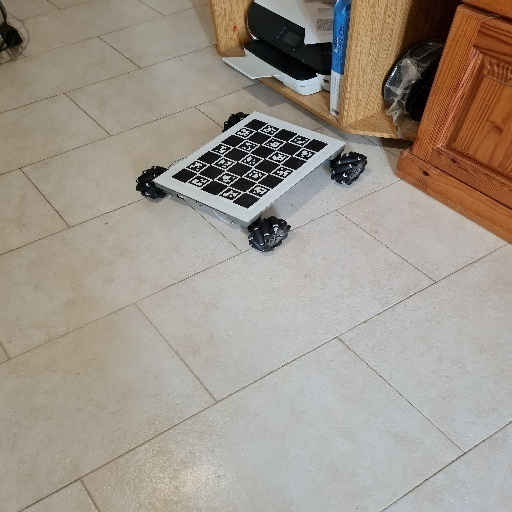Omniwheel: (137, 110, 372, 251)
